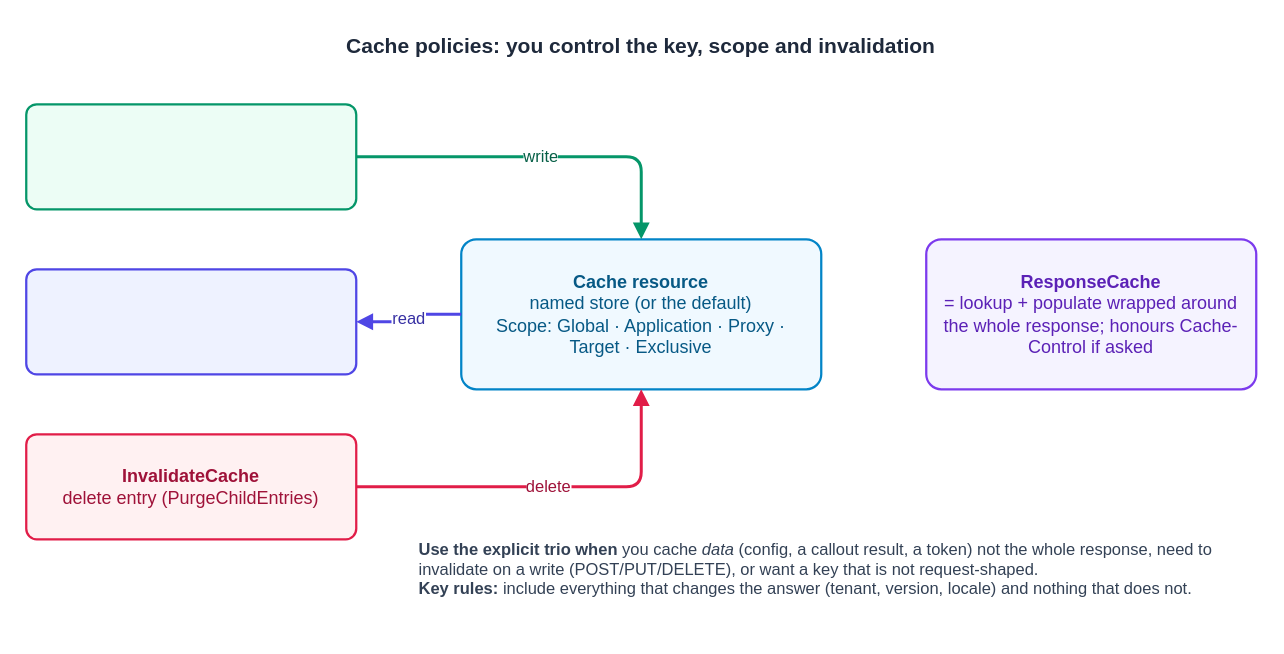
Some shapes in this 1284 by 654 pixel diagram are drawn without their labels. The centre of each missing label's shape, as x and y in pixels:
LookupCache read → variable; sets cachehit: point (190, 321)
PopulateCache store value under CacheKey, TTL: point (190, 156)
